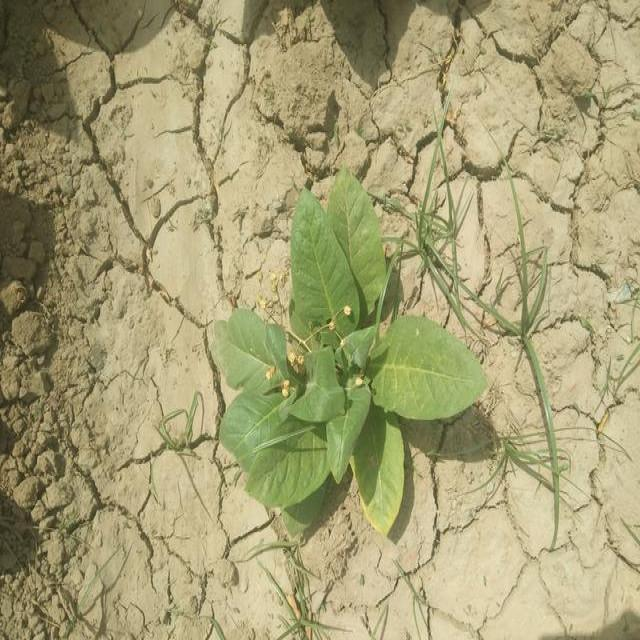crop: (219, 171, 494, 519)
